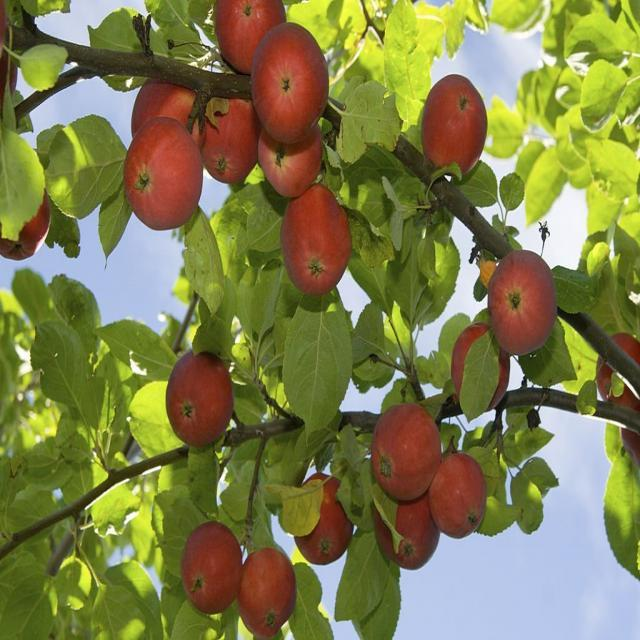Red Apple: (486, 239, 564, 356), (256, 16, 334, 132), (127, 122, 203, 228), (132, 66, 210, 163), (419, 81, 492, 179), (281, 190, 354, 285), (167, 351, 237, 446), (373, 396, 441, 493), (450, 320, 515, 414), (184, 515, 247, 608), (210, 1, 288, 71), (294, 473, 357, 559), (381, 481, 441, 571), (203, 88, 263, 177), (260, 116, 323, 197), (428, 452, 486, 538), (243, 545, 296, 634), (1, 177, 52, 260), (595, 329, 640, 412), (1, 1, 14, 69)
